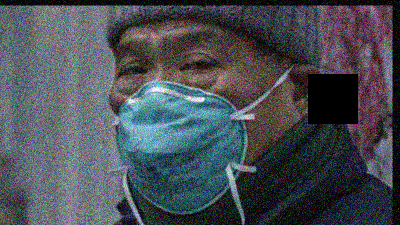with_mask: (110, 24, 287, 189)
